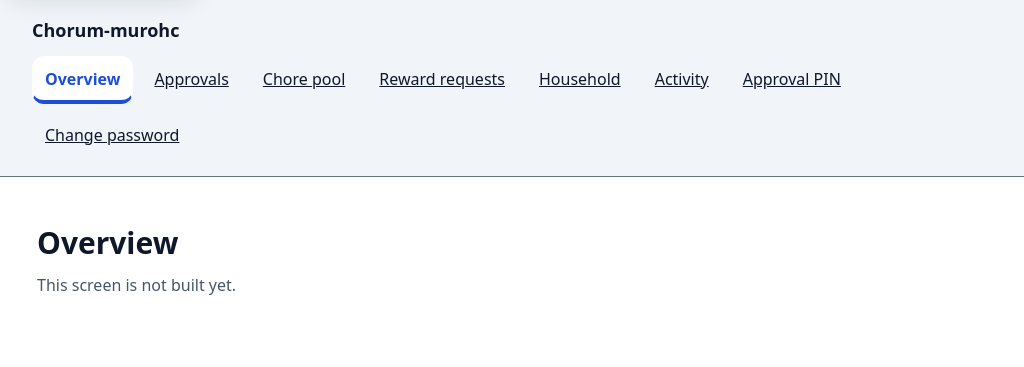
Test case: RoleRouter history and focus › pushes one entry, moves the current marker, and focuses main once
What coordinates should you click on to do the following:
click the link "Approvals"
I would click on:
 (192, 78)
Its box is [154,68,229,90].
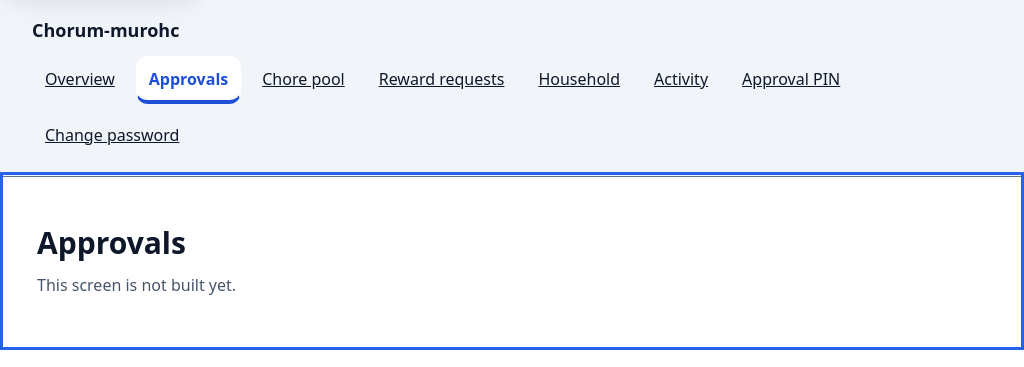
Result: the heading reads "Approvals" at [37,222,186,263]
